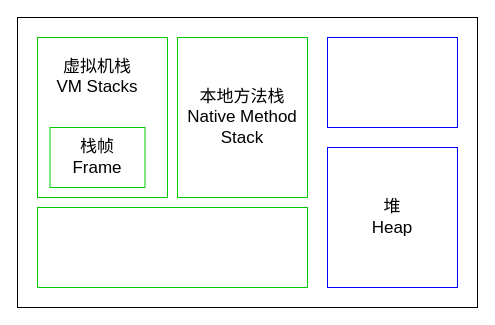
This 495x325 diagram has some shape labels left out. The shapes that lost their labels are listed below. From the top down, each one's centre as x and y in pixels, then its label:
At (392,82): "方法区 Method Area".
At (172,247): "程序计数器 Program Counter Register".
